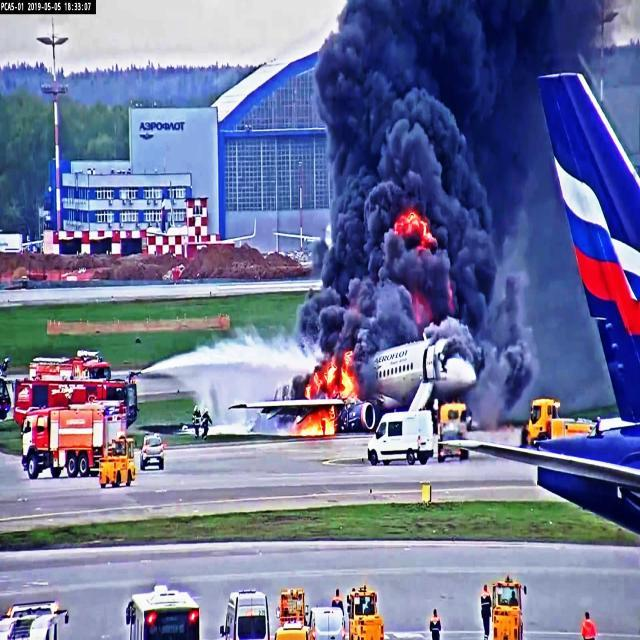Smoke: (321, 0, 496, 196), (322, 0, 383, 348), (464, 0, 526, 331), (377, 236, 462, 330)
